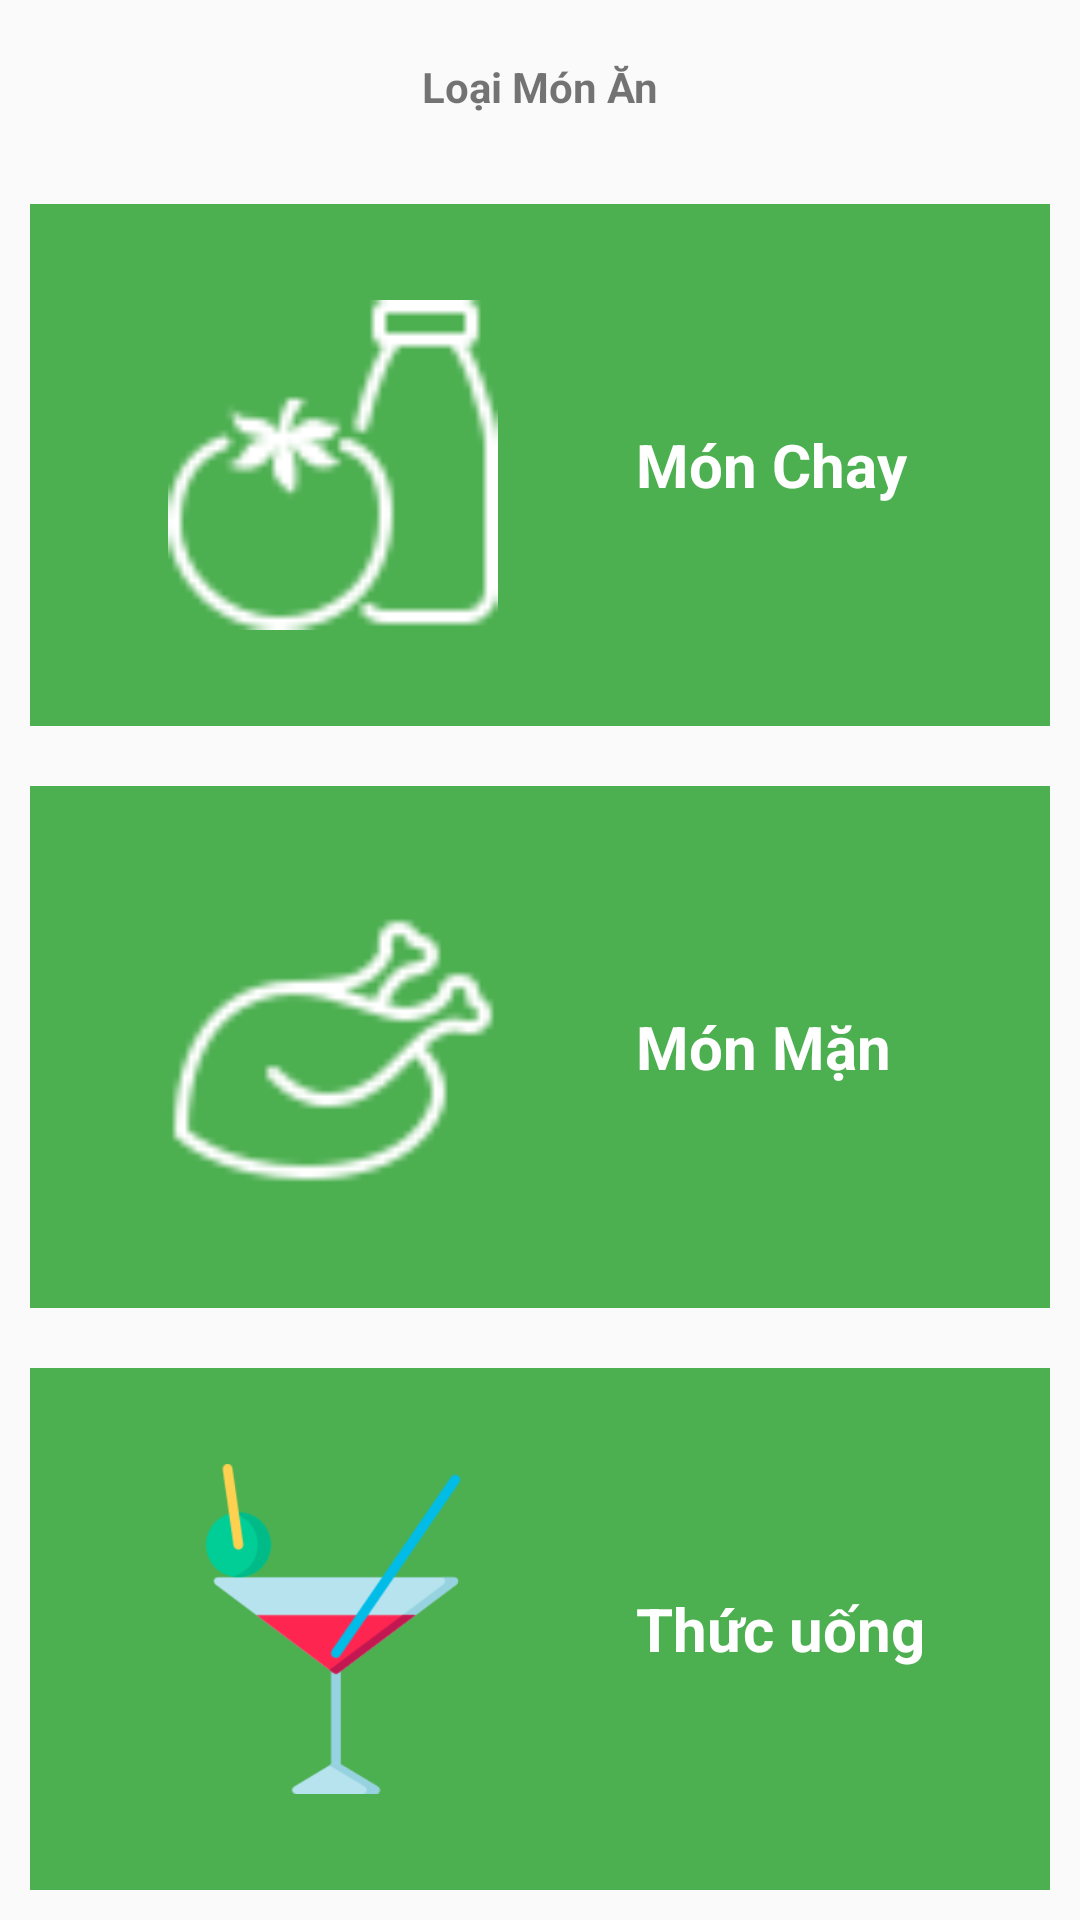

Named icons in this screenshot (1080×1920) and their bounding boxes, bbox=(x1, y1, x2, y2):
drink: bbox=(206, 1464, 461, 1794)
mon chay: bbox=(168, 300, 498, 630)
mon man: bbox=(172, 919, 494, 1181)
